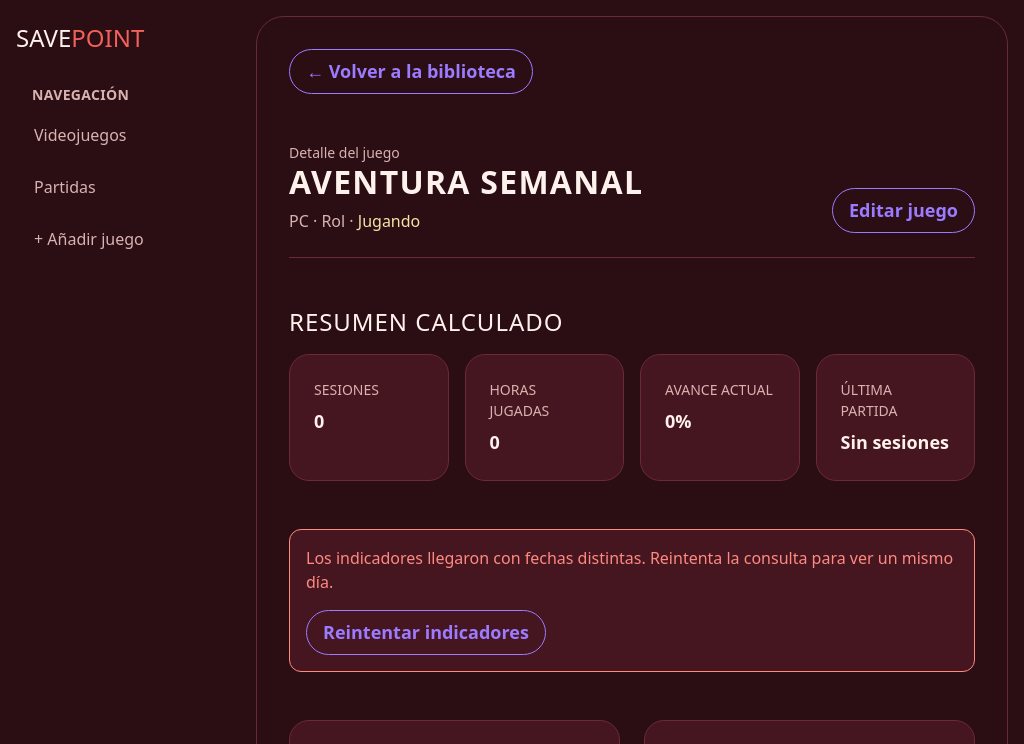
Test: FE-02: desfase persistente no muestra datos mezclados ni genera bucle; reintento manual recupera
Expected: the message shows "fechas distintas", [306,547,953,593]
Expected: the text "5 días" is not shown
Click the button "Reintentar indicadores" at {"x": 426, "y": 632}, box [306,610,546,655]
(page scrolled)
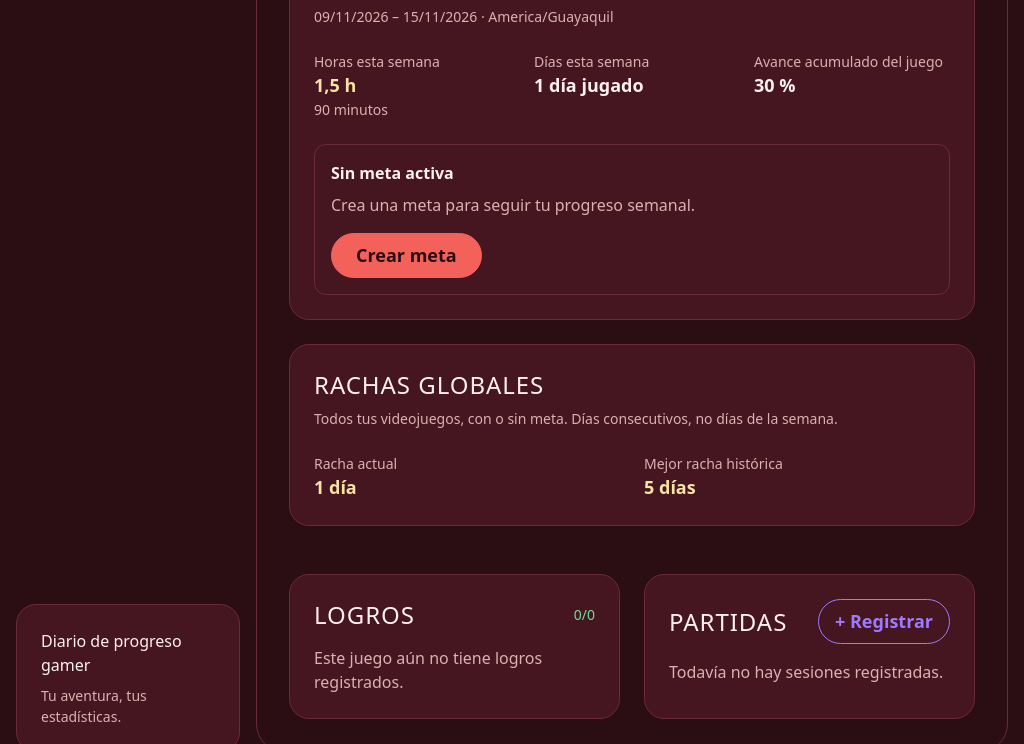
Expected: the text "5 días" is shown, [644,475,696,499]
